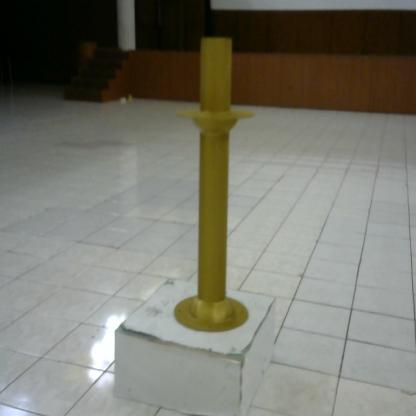pole: (169, 23, 262, 345)
